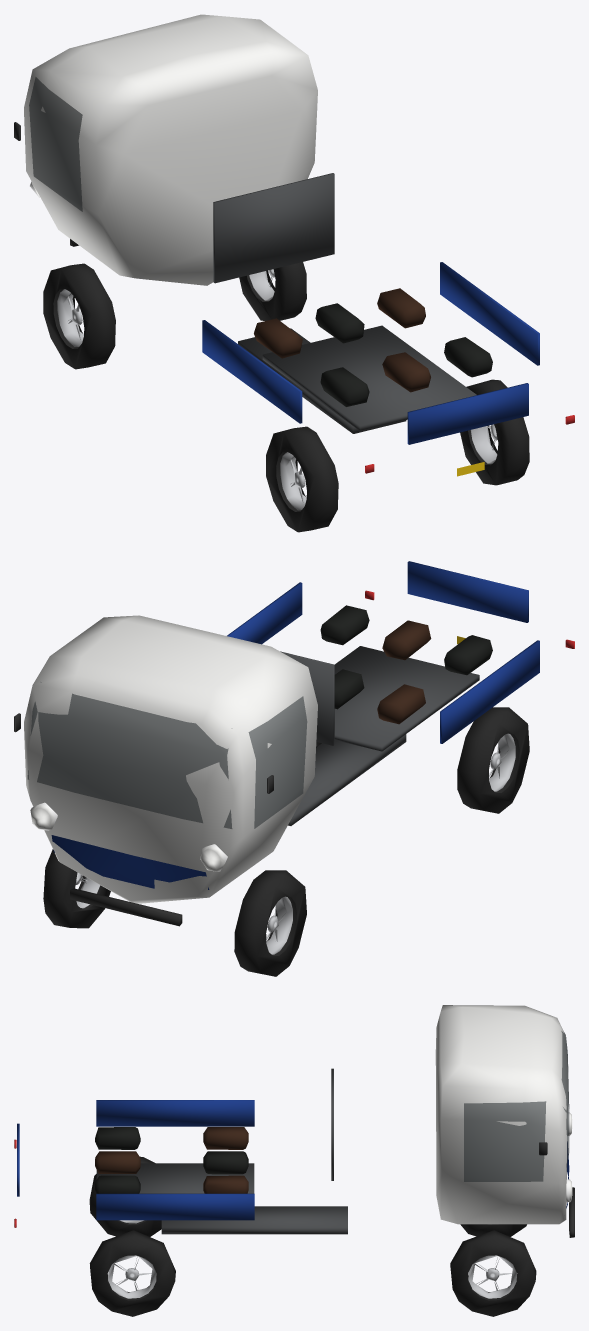
The model's file is minitruck_0_lo.glb.
3 views of the same model, one above another, from view 1: azimuth 30°, elevation 25°; view 2: azimuth 150°, elevation 25°; view 3: azimuth 270°, elevation 25° (orthographic). The views are drawn at different scales.
Visible parts, largest first — view 1: body, wheel_0, wheel_2, wheel_3, wheel_1; view 2: body, wheel_0, wheel_2, wheel_1; view 3: body, wheel_1, wheel_3, wheel_2, wheel_0.
Boxes of the visible parts, x1,y1,x2,y2 form: body: [14, 14, 574, 476]; wheel_0: [43, 263, 115, 369]; wheel_2: [266, 426, 338, 532]; wheel_3: [460, 379, 529, 485]; wheel_1: [239, 262, 306, 320]; body: [14, 561, 574, 926]; wheel_0: [234, 870, 306, 976]; wheel_2: [457, 707, 529, 813]; wheel_1: [43, 849, 110, 928]; body: [14, 1005, 574, 1237]; wheel_1: [450, 1230, 536, 1316]; wheel_3: [89, 1230, 175, 1316]; wheel_2: [89, 1156, 161, 1236]; wheel_0: [460, 1224, 526, 1236].
Bounding box in the file's own units: 1.66 × 1.86 × 3.89.
